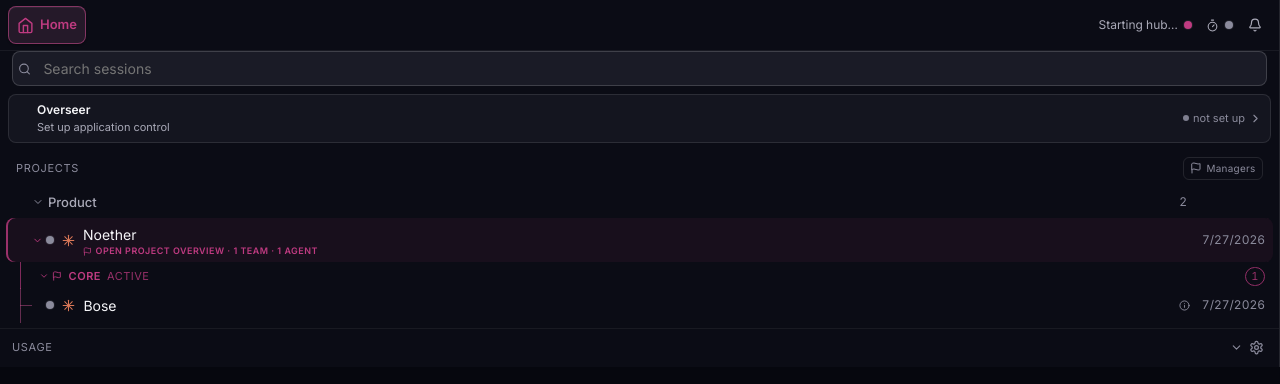
sidebar launch controls › lets the operator inspect a managed child purpose without opening its chat
The width and height of the screenshot is (1280, 384).
Click the button named "Bose purpose: Audit concurrency and reproduce races.": (1185, 305) x1=1176 y1=296 x2=1194 y2=314
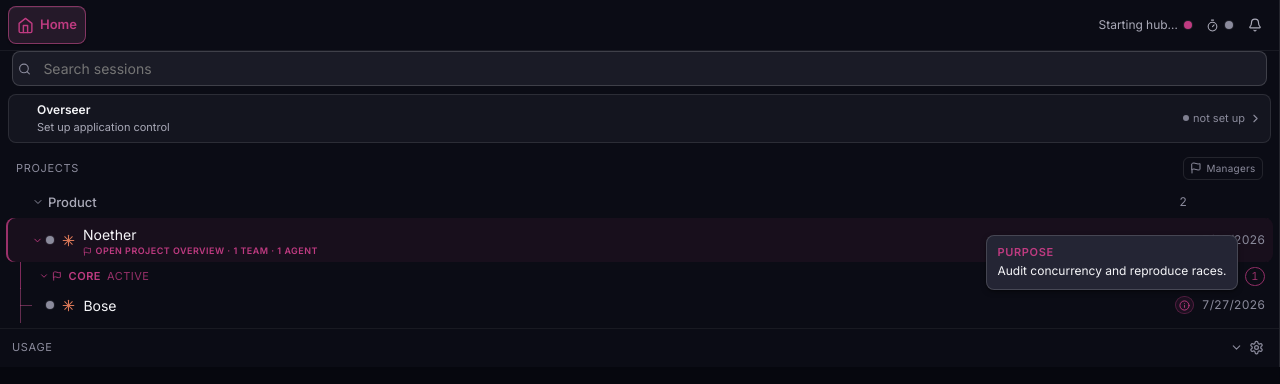
Now the button named "Bose purpose: Audit concurrency and reproduce races." is expanded, box x1=1176 y1=296 x2=1194 y2=314
Now the element showing "Purpose Audit concurrency and reproduce races." is shown, box x1=986 y1=235 x2=1238 y2=290
